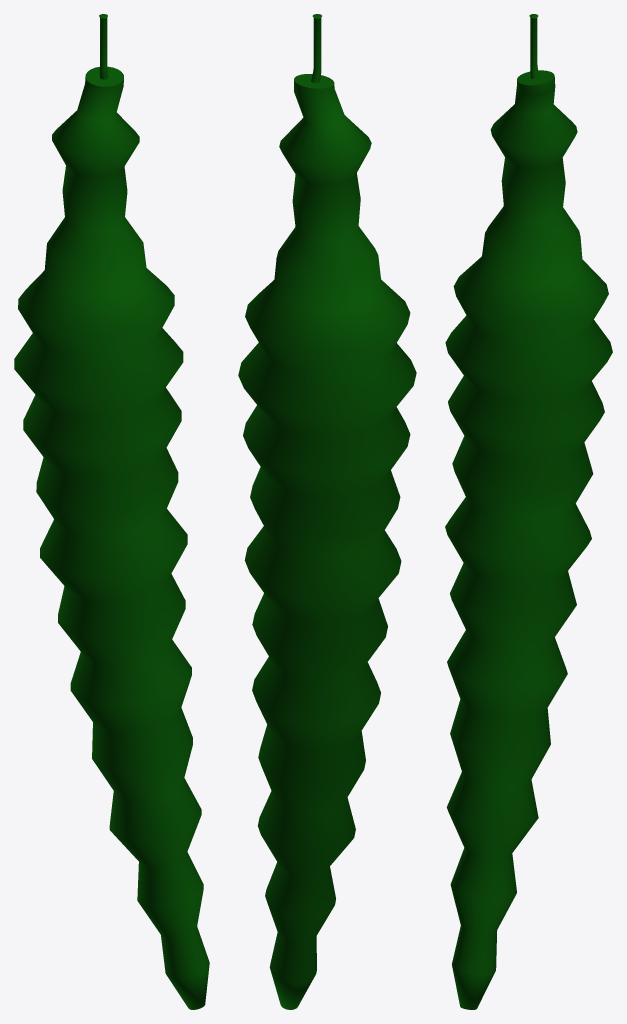
File: shortbush-simplified.fbx
3 views of the same model, side by side, from view 1: azimuth 30°, elevation 25°; view 2: azimuth 150°, elevation 25°; view 3: azimuth 270°, elevation 25° (orthographic). The views are drawn at different scales.
Parts seen in each view (by area): view 1: Cannabis, stem; view 2: Cannabis, stem; view 3: Cannabis, stem.
Boxes of the visible parts, x1,y1,x2,y2 form: Cannabis: [14, 66, 209, 1009]; stem: [99, 14, 108, 79]; Cannabis: [238, 74, 416, 1009]; stem: [311, 14, 321, 82]; Cannabis: [445, 70, 612, 1009]; stem: [529, 14, 539, 78].
Bounding box in the file's own units: 76.15 × 465 × 73.39.
